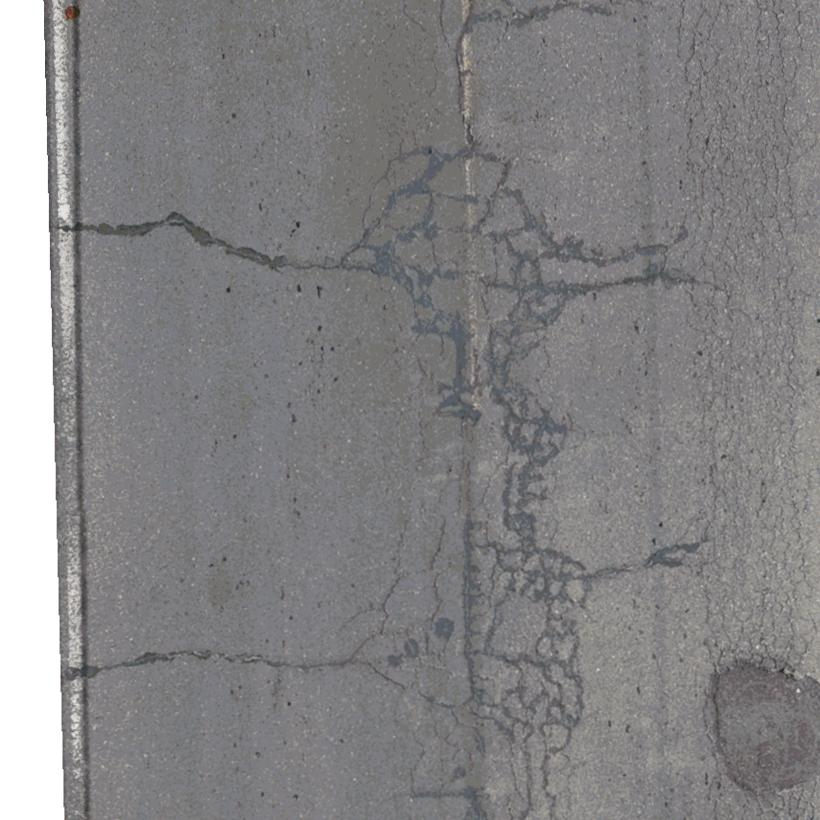BACHE: (712, 663, 819, 790)
GRIETA: (57, 211, 340, 270), (66, 650, 352, 680), (588, 544, 684, 579), (455, 0, 478, 135), (474, 3, 614, 23), (584, 270, 660, 296), (583, 244, 663, 267), (403, 3, 429, 32), (440, 0, 454, 50), (428, 46, 439, 98)
PIEL DE COCODRILO: (336, 125, 592, 819), (660, 0, 819, 678), (702, 773, 819, 819)
